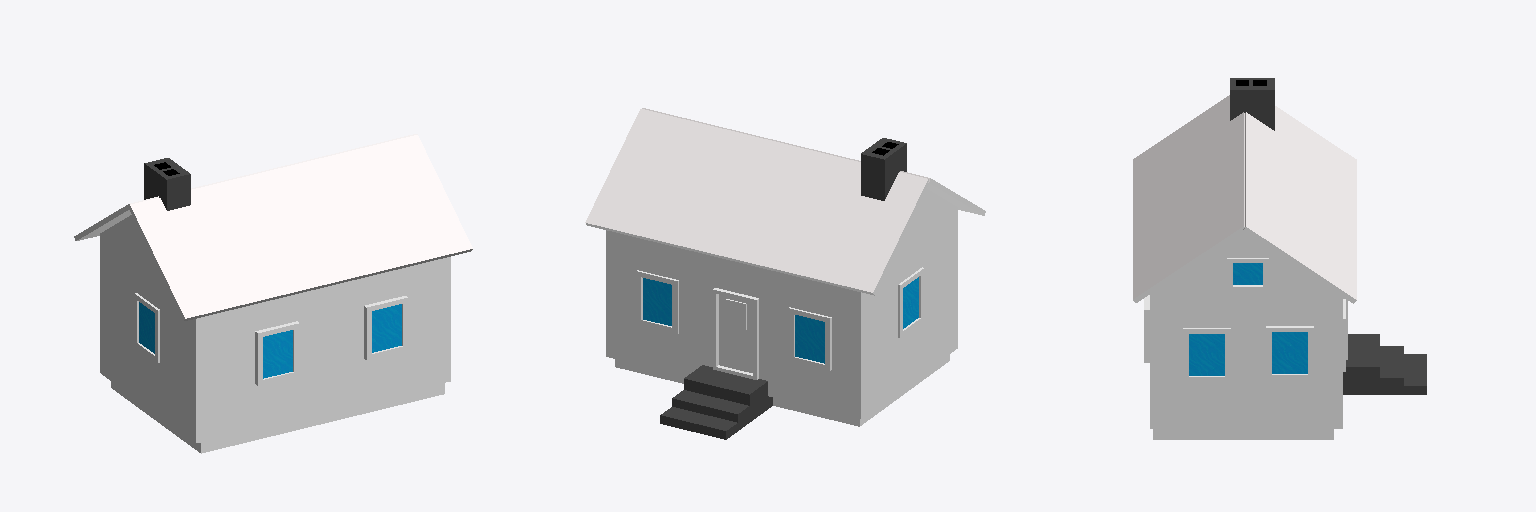
3 renders of one model, left to right at view 1: azimuth 30°, elevation 25°; view 2: azimuth 150°, elevation 25°; view 3: azimuth 270°, elevation 25°, orthographic.
Visible parts, largest first — view 1: talo_punainen-SKP-Default_Material, talo_punainen-SKP-0010_Snow, talo_punainen-SKP-Glass_Blue_Tint, talo_punainen-SKP-0135_DarkGray; view 2: talo_punainen-SKP-Default_Material, talo_punainen-SKP-0010_Snow, talo_punainen-SKP-0135_DarkGray, talo_punainen-SKP-Glass_Blue_Tint; view 3: talo_punainen-SKP-Default_Material, talo_punainen-SKP-0010_Snow, talo_punainen-SKP-0135_DarkGray, talo_punainen-SKP-Glass_Blue_Tint.
Boxes of the visible parts, <box> form: talo_punainen-SKP-Default_Material: <box>74,204,472,453</box>; talo_punainen-SKP-0010_Snow: <box>130,134,472,318</box>; talo_punainen-SKP-Glass_Blue_Tint: <box>139,302,401,378</box>; talo_punainen-SKP-0135_DarkGray: <box>144,158,190,210</box>; talo_punainen-SKP-Default_Material: <box>586,178,985,426</box>; talo_punainen-SKP-0010_Snow: <box>585,108,929,292</box>; talo_punainen-SKP-0135_DarkGray: <box>660,138,906,439</box>; talo_punainen-SKP-Glass_Blue_Tint: <box>643,277,918,363</box>; talo_punainen-SKP-Default_Material: <box>1133,226,1356,439</box>; talo_punainen-SKP-0010_Snow: <box>1133,95,1356,299</box>; talo_punainen-SKP-0135_DarkGray: <box>1230,78,1426,394</box>; talo_punainen-SKP-Glass_Blue_Tint: <box>1189,263,1307,375</box>.
Bounding box in the file's own units: 7.88 × 6.38 × 6.96.
Materials: 6 (2 with a texture image).